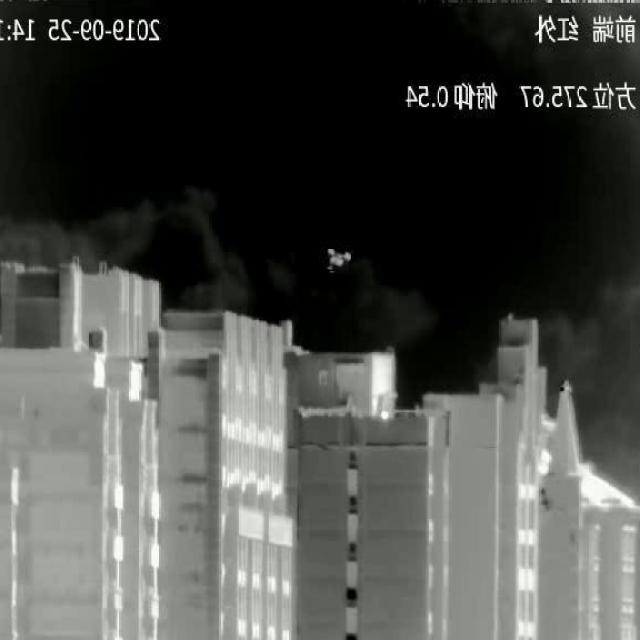drone: (327, 249, 351, 271)
